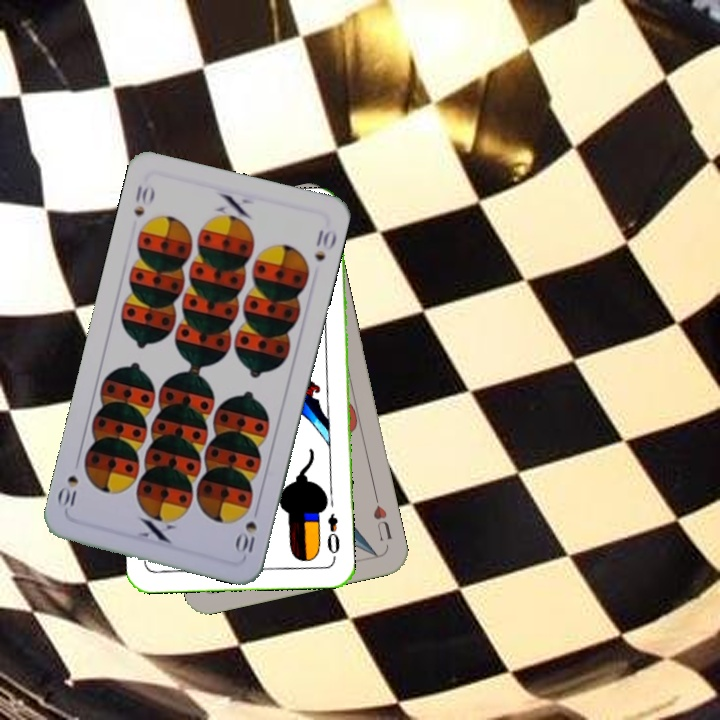EO: (323, 509, 343, 562)
HU: (369, 490, 395, 544)
S10: (129, 178, 157, 219), (233, 516, 260, 556)
